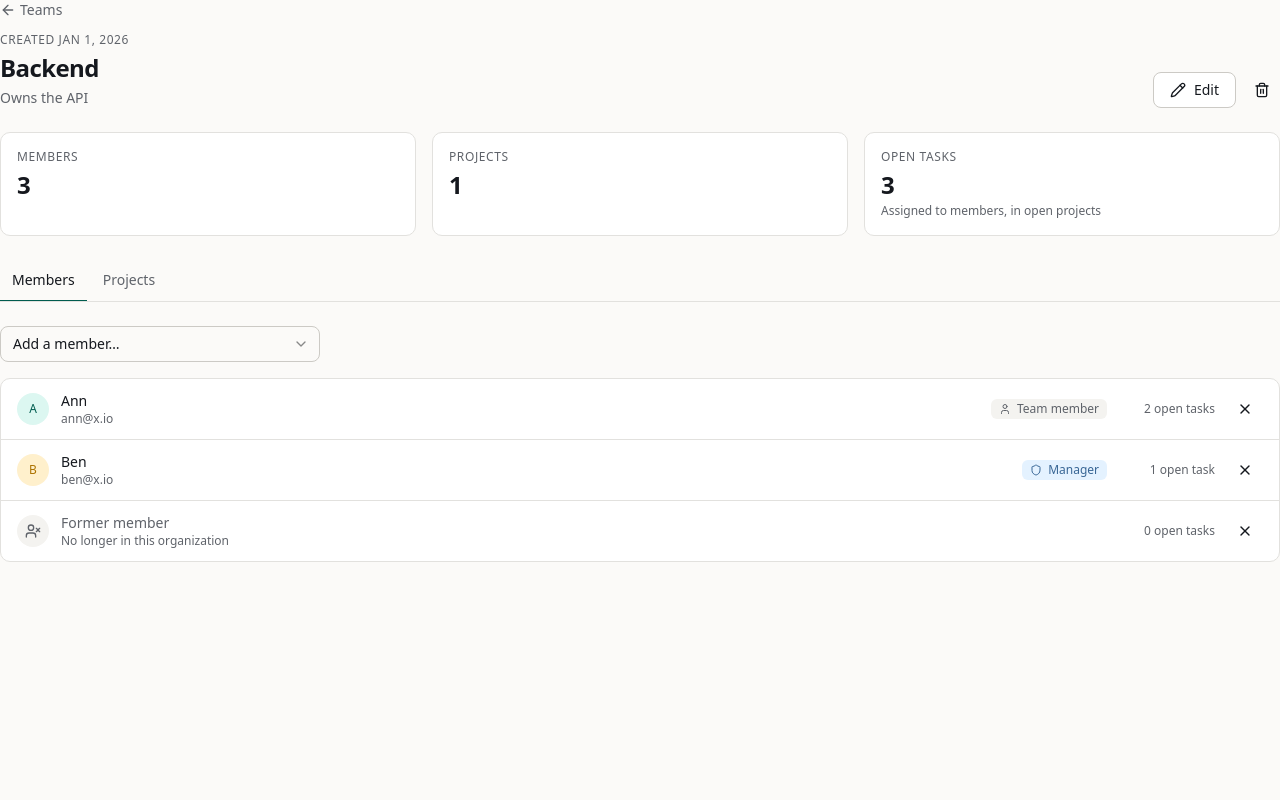
TeamDetail › warns that deleting a team leaves its project assignments listed as a deleted team
Click the button named "Delete team" at (1262, 90), box left=1244, top=72, right=1279, bottom=108
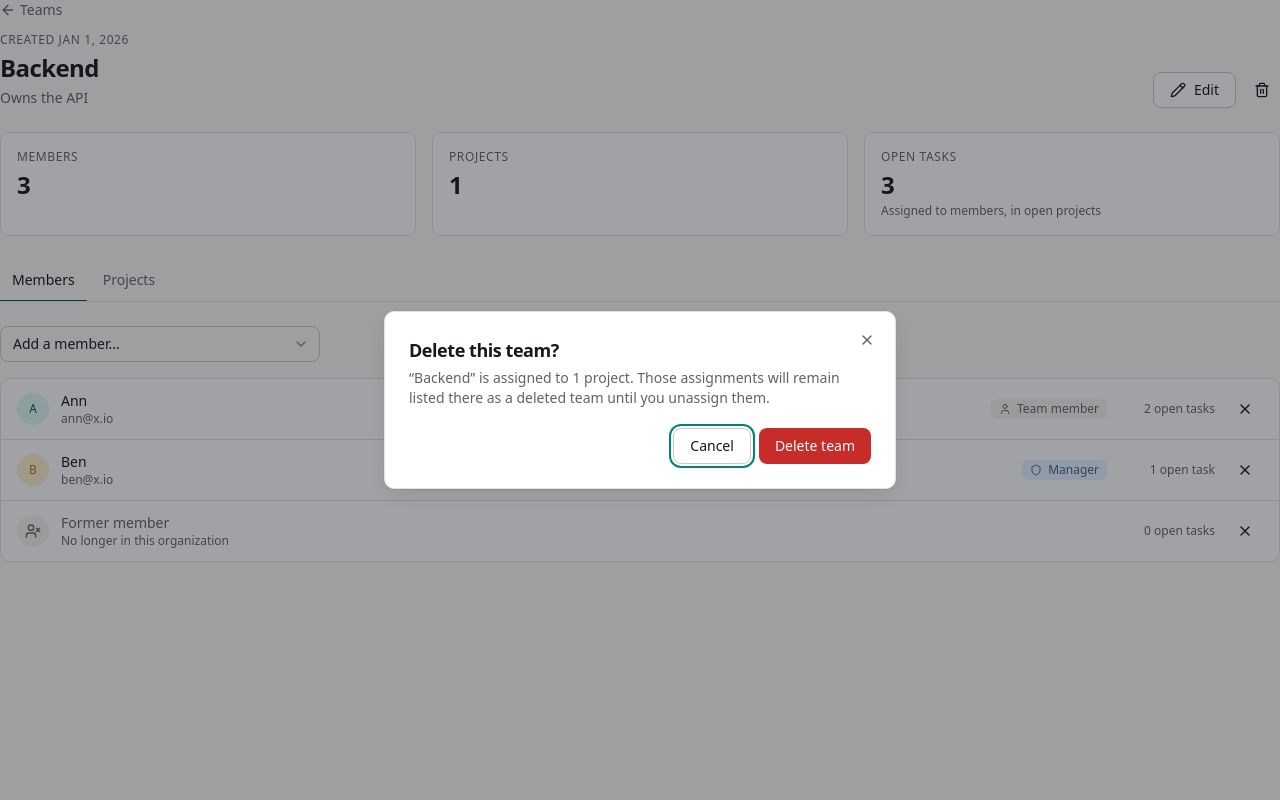
Expected: the text "assigned to 1 project. Those assignments will remain listed there as a deleted team" is shown, left=409, top=368, right=840, bottom=407
